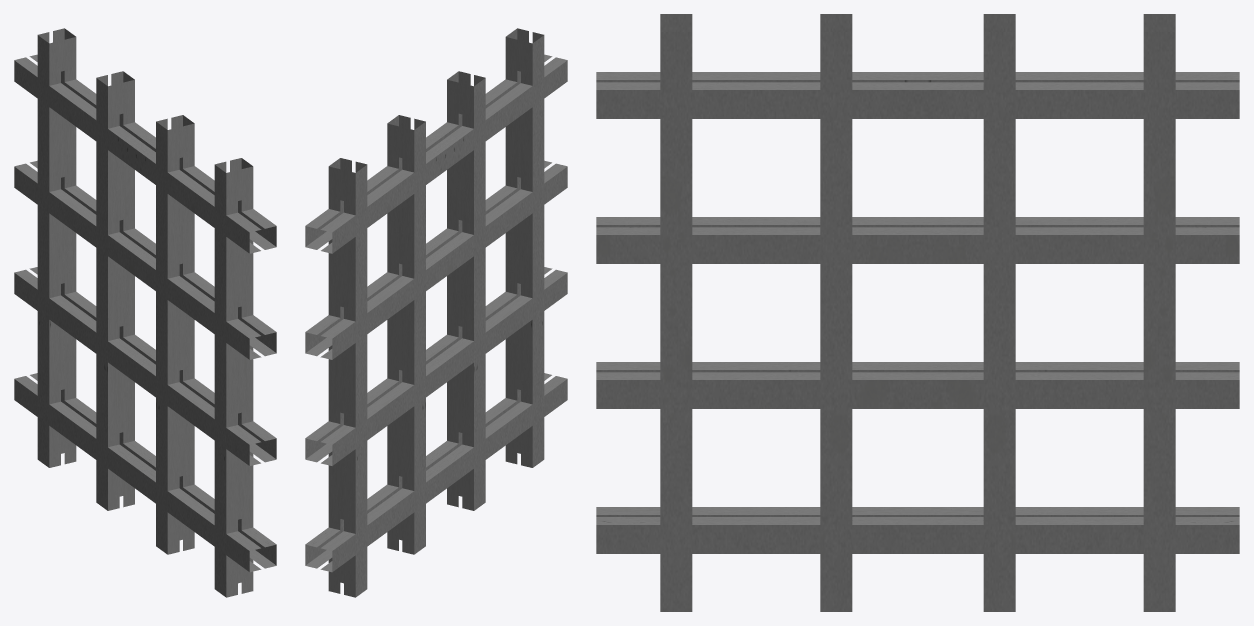
Rendered from Window.fbx.
3 renders of one model, left to right at view 1: azimuth 30°, elevation 25°; view 2: azimuth 150°, elevation 25°; view 3: azimuth 270°, elevation 25°, orthographic. The views are drawn at different scales.
Visible parts, largest first — view 1: Cube; view 2: Cube; view 3: Cube.
Part boxes in pixels (box(x1,y1,x2,y2)): Cube: box(14, 28, 276, 597); Cube: box(305, 28, 567, 597); Cube: box(596, 14, 1239, 611).
Size of the model in its own units: 200 by 3000 by 3016.
